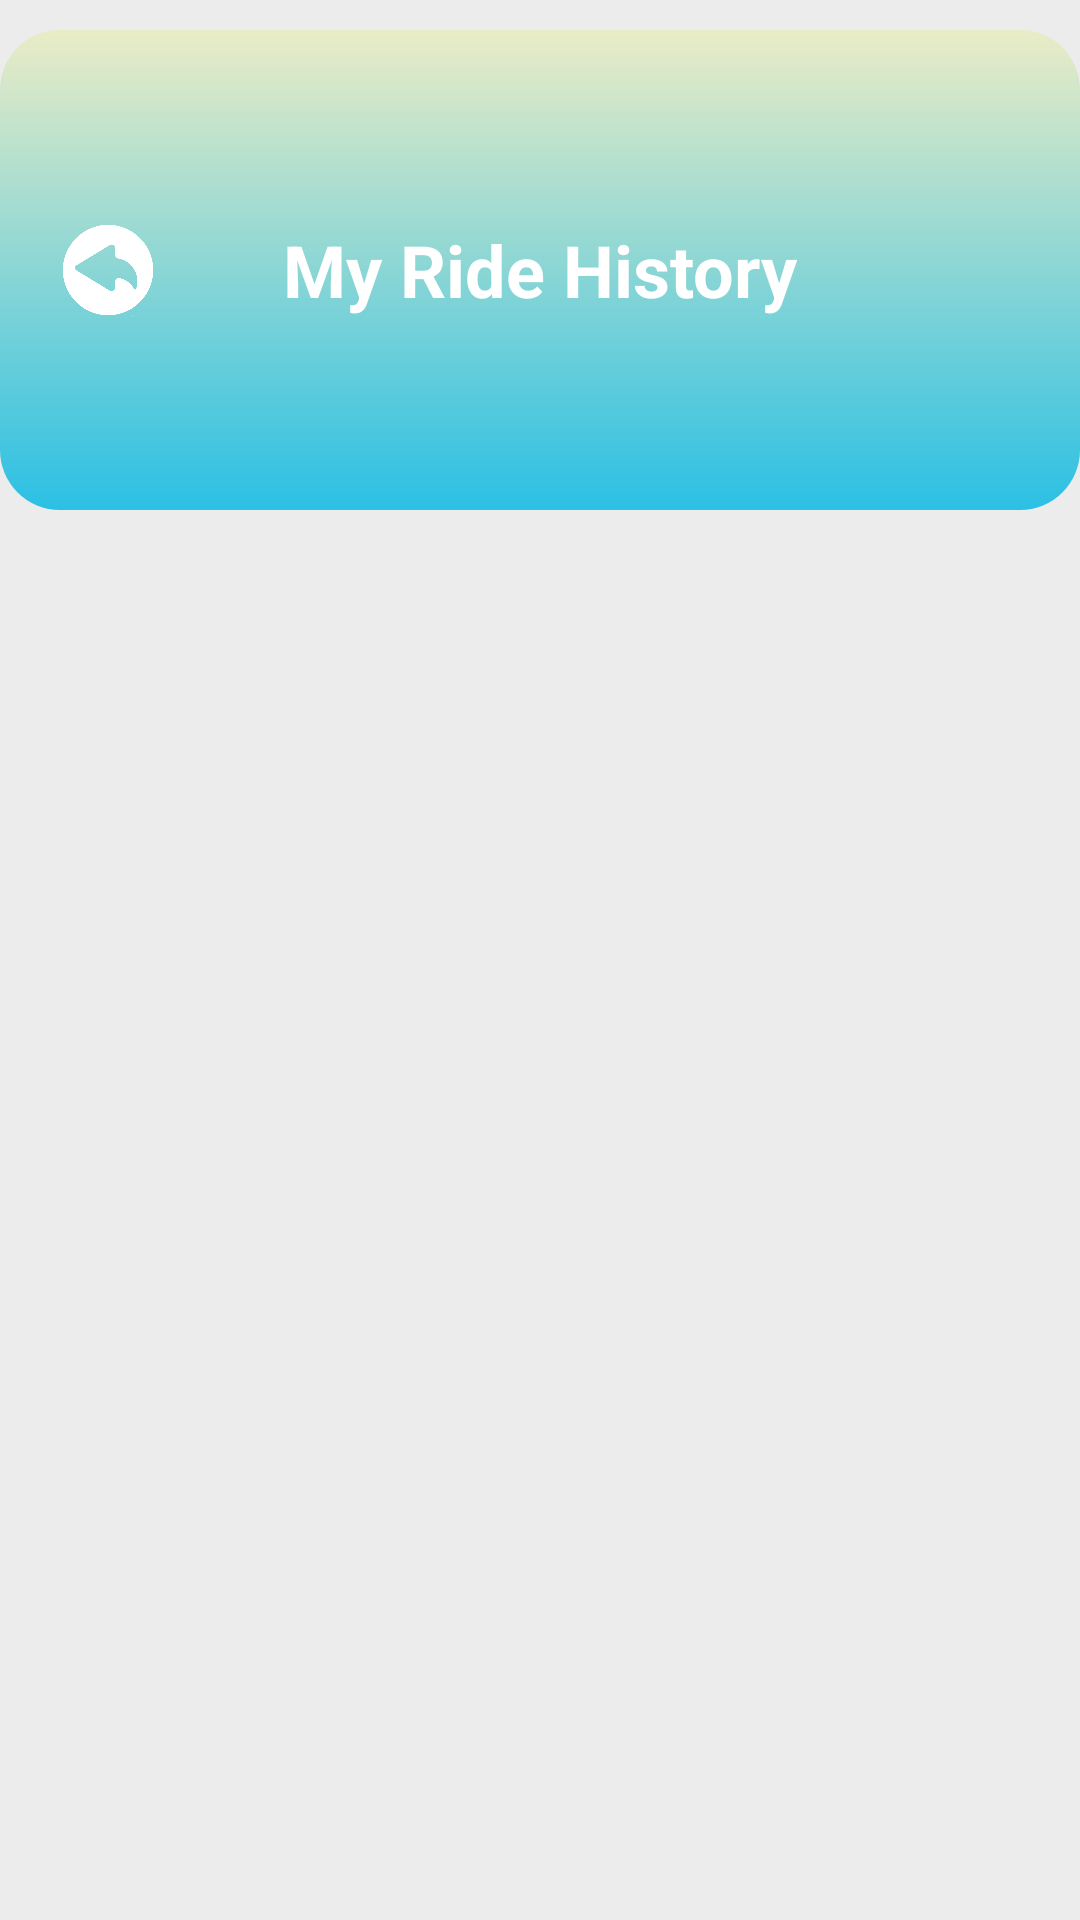

Named icons in this screenshot (1080x1920) and their centers, point (x, y):
Back Button: point (108, 270)
